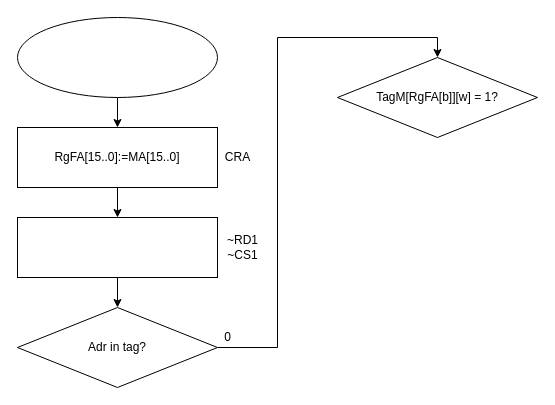
Some shapes in this 555 by 405 pixel diagram are drawn without their labels. Here are the shapes that lost their labels. From the top down, the centre of each, then its label:
(x=117, y=57): НАЧАЛО ЧТЕНИЕ
(x=117, y=247): Adr in tag = RgFA[a] in TagM
